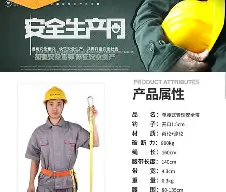safety belt2: (36, 164, 84, 182)
